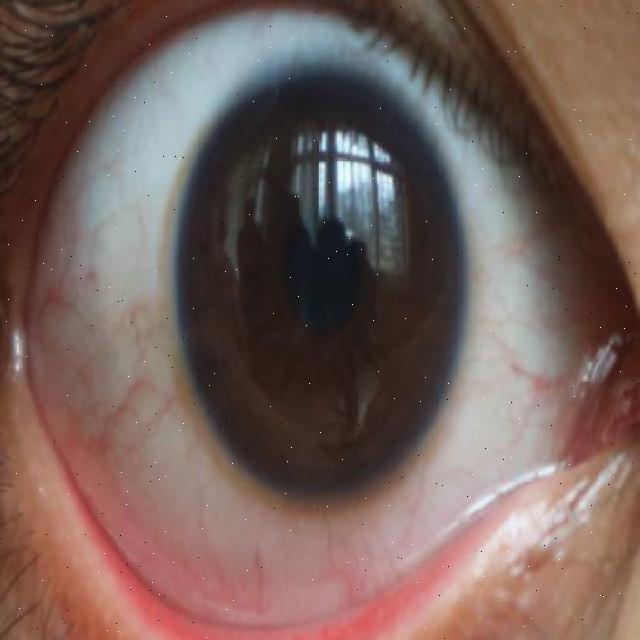Normal: (178, 74, 467, 498)
